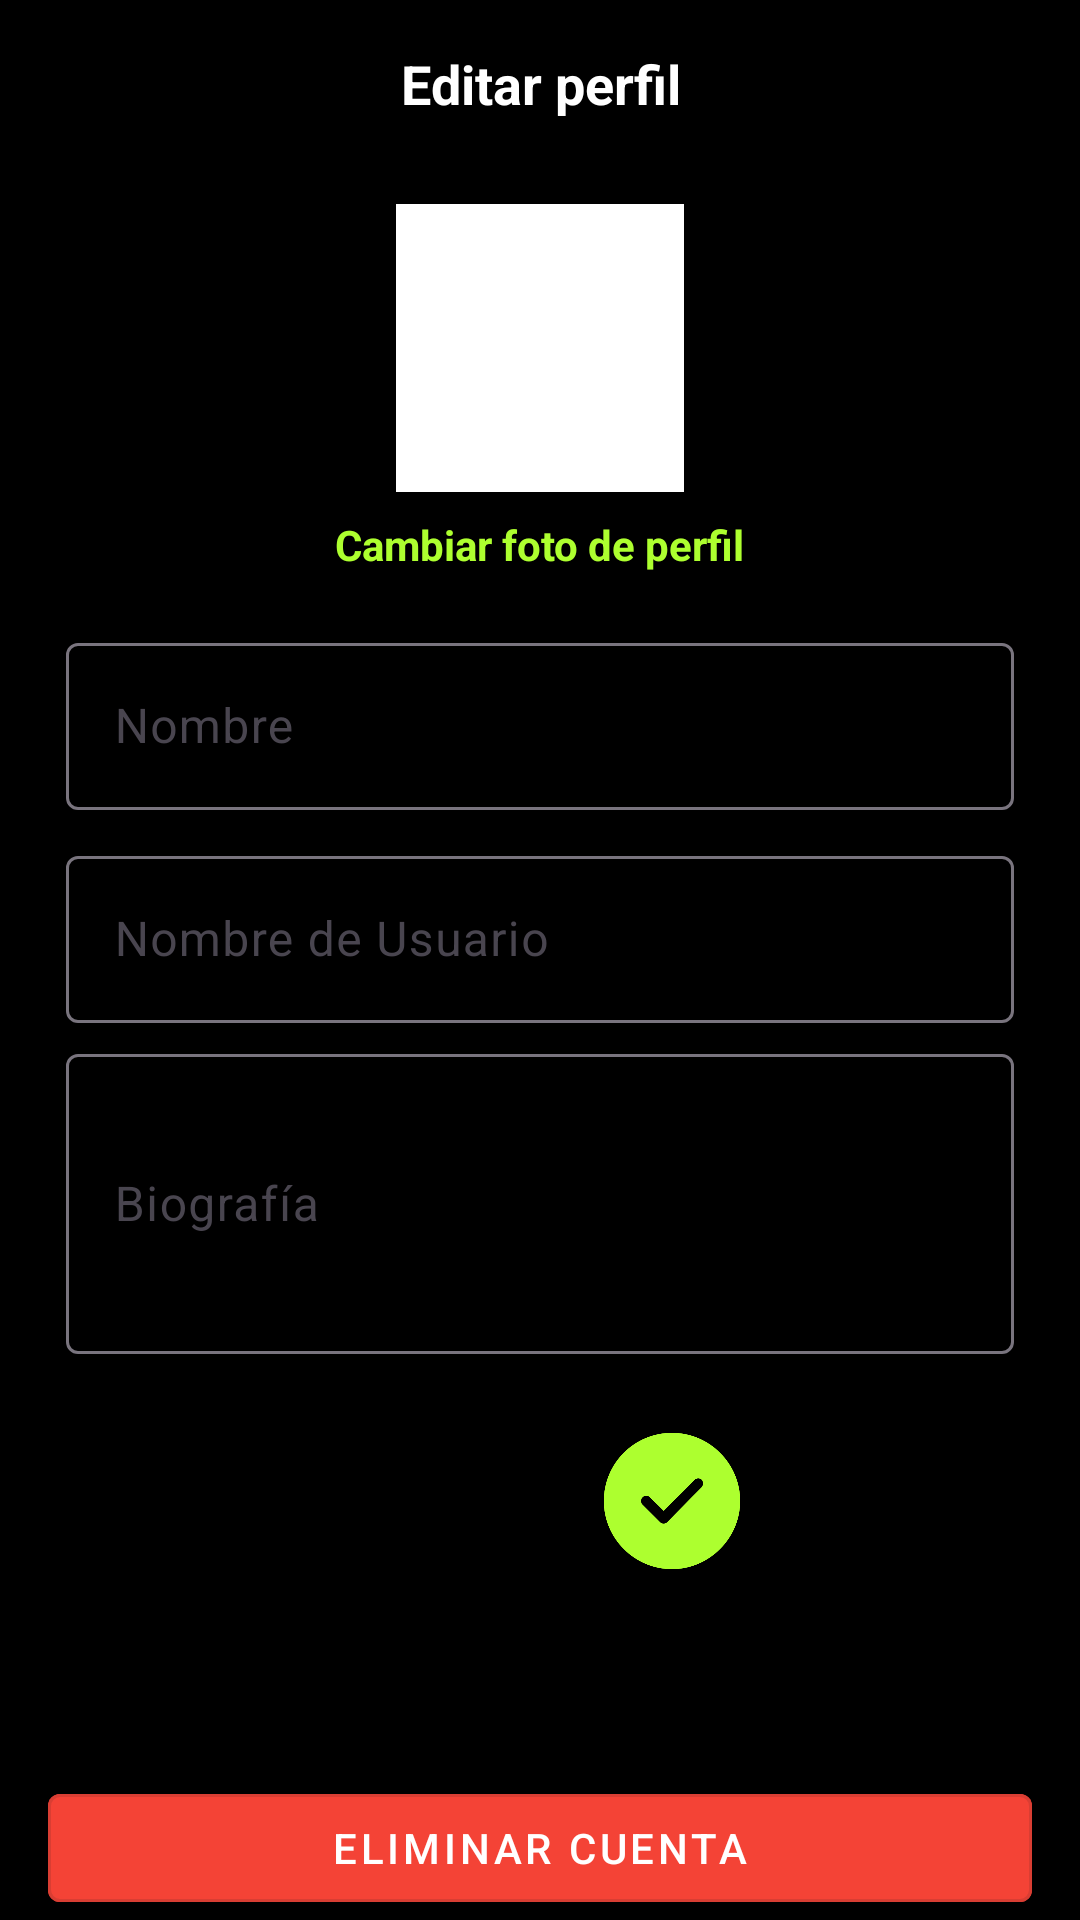

Screen size 1080*1920. Icon name, then its box in pixels as bbox=(x1, y1, x2, y2):
Guardar: bbox=(604, 1433, 740, 1569)
